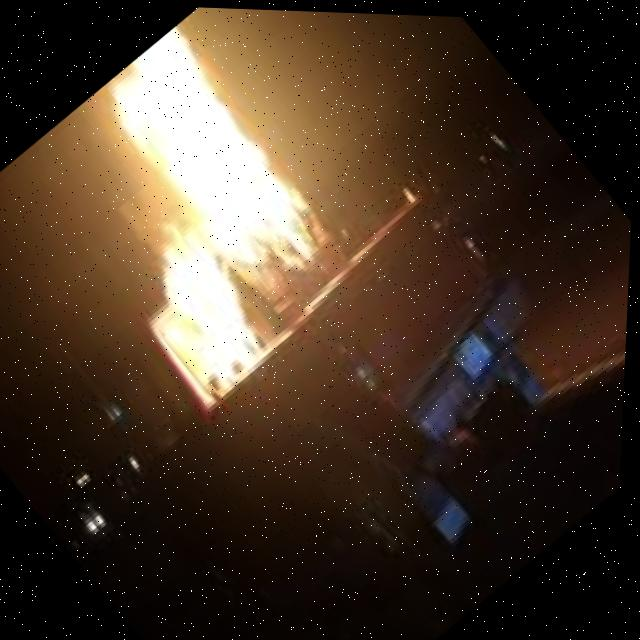Smoke: (2, 5, 412, 418)
